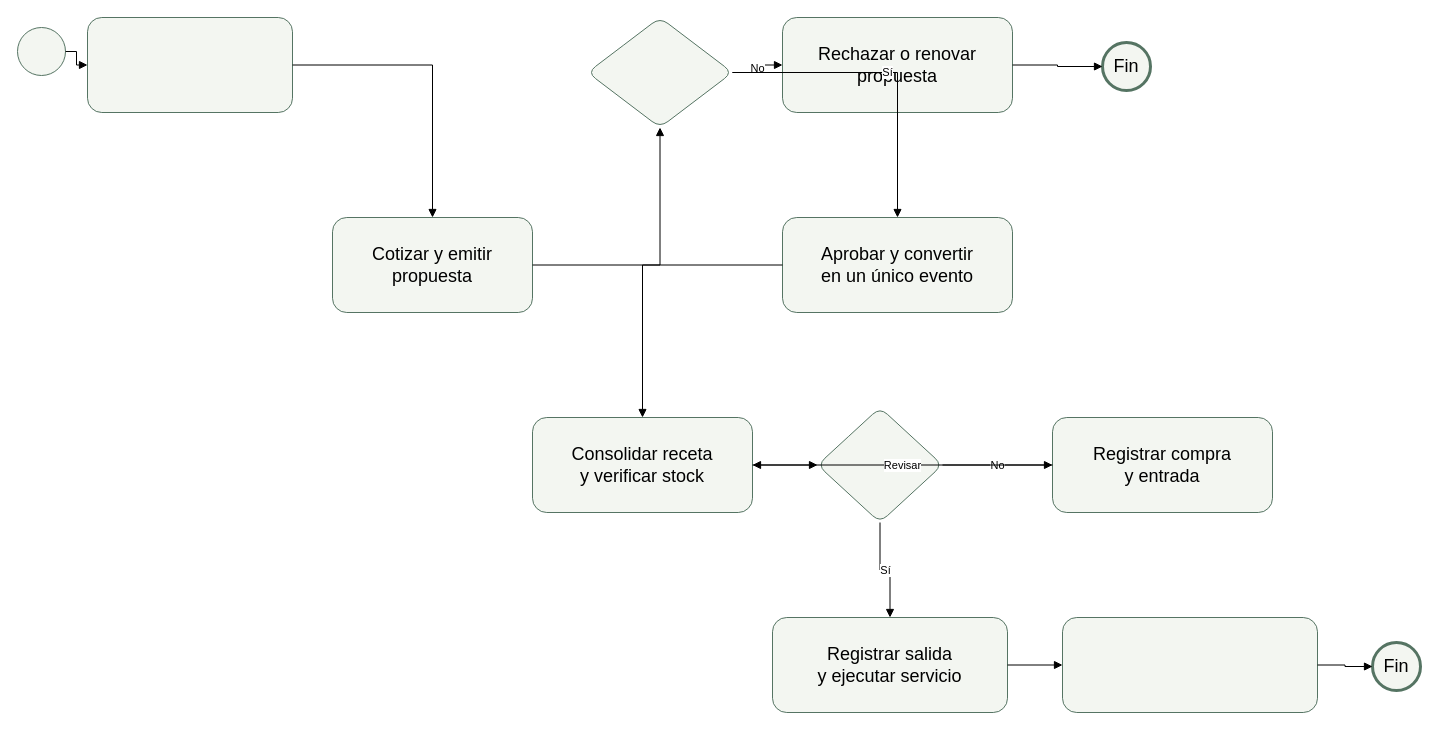
The diagram is 1439 pixels wide and 730 high, and some of its shapes have lost their labels. Here are the shapes that lost their labels. From the top down, the box of each, then its label:
(86, 16, 292, 112): Registrar cliente y restricciones
(586, 16, 732, 128): Aceptada y vigente
(816, 406, 942, 522): Stock suficiente
(1062, 616, 1318, 712): Registrar pagos y cerrar con saldo cero
